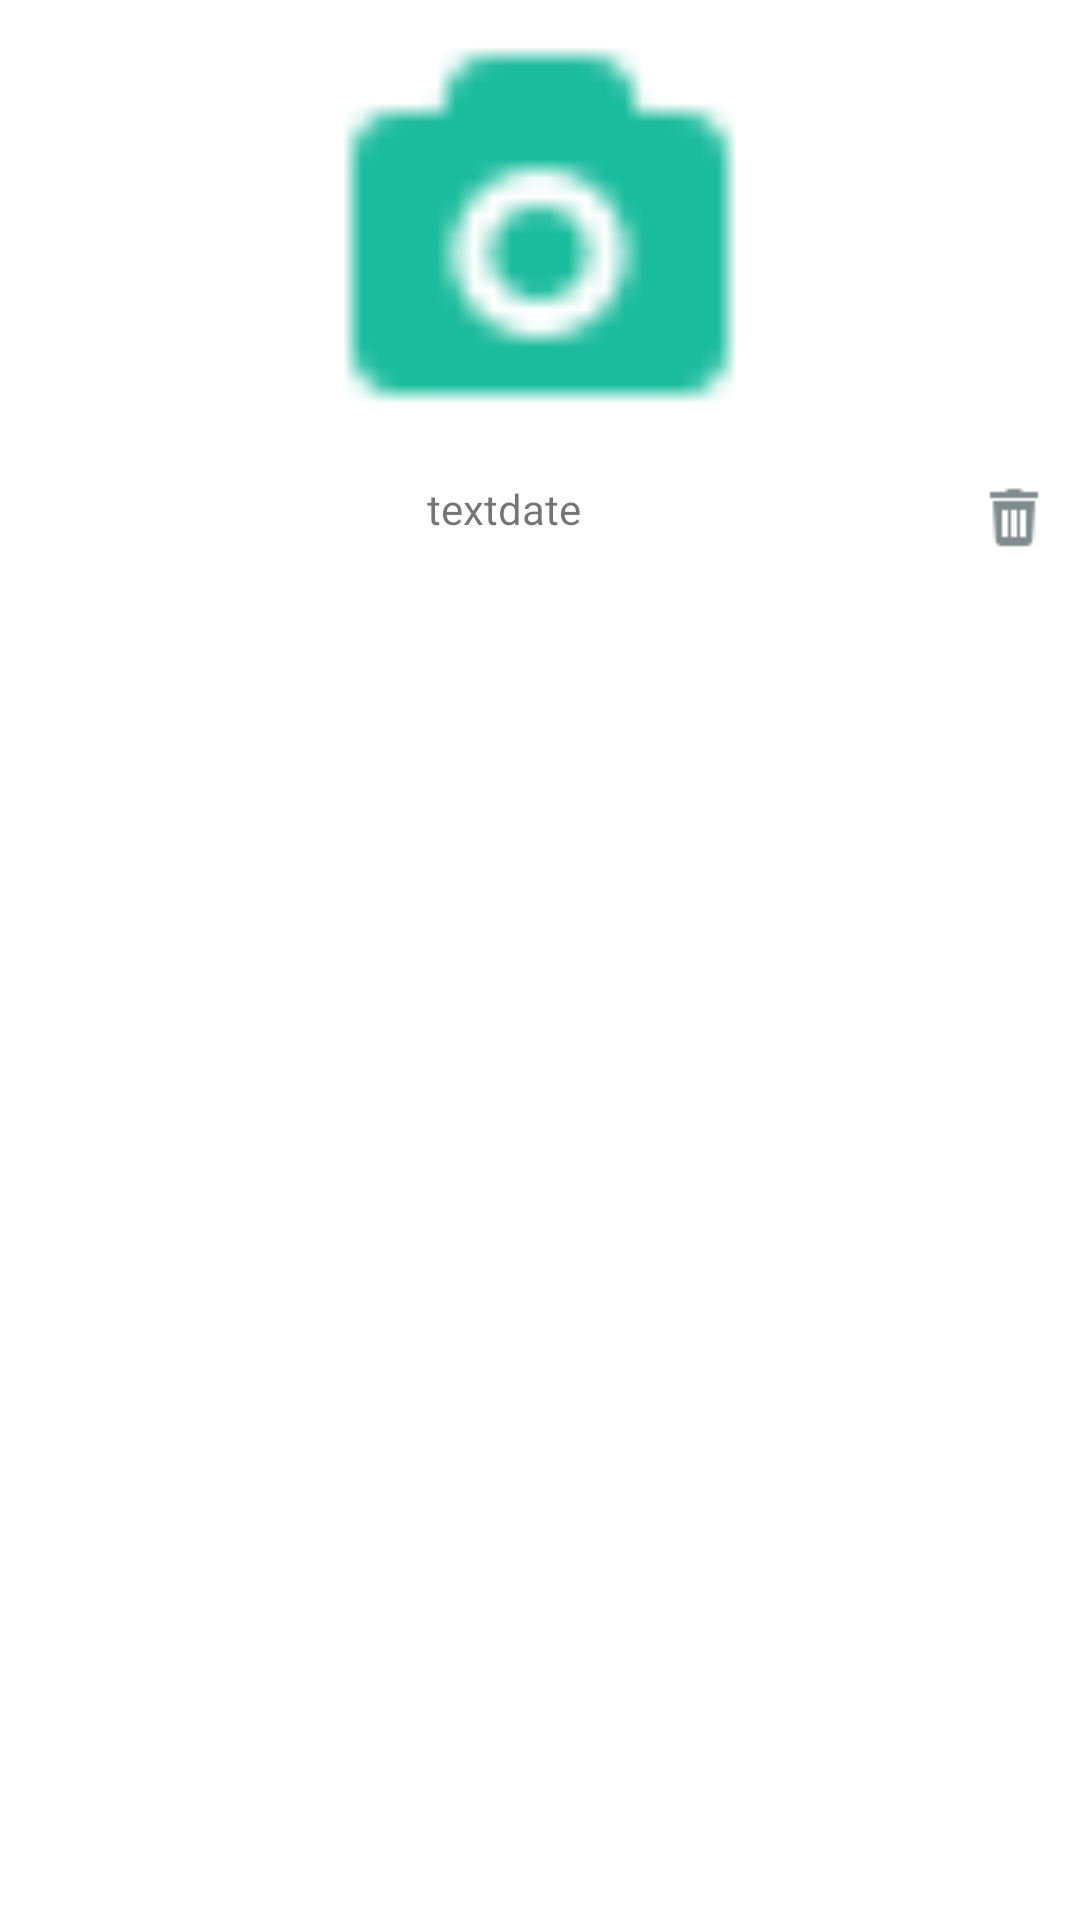

Named icons in this screenshot (1080 x 1920) and their bounding boxes, [x1, y1, x2, y2]:
delete: [989, 488, 1039, 547]
